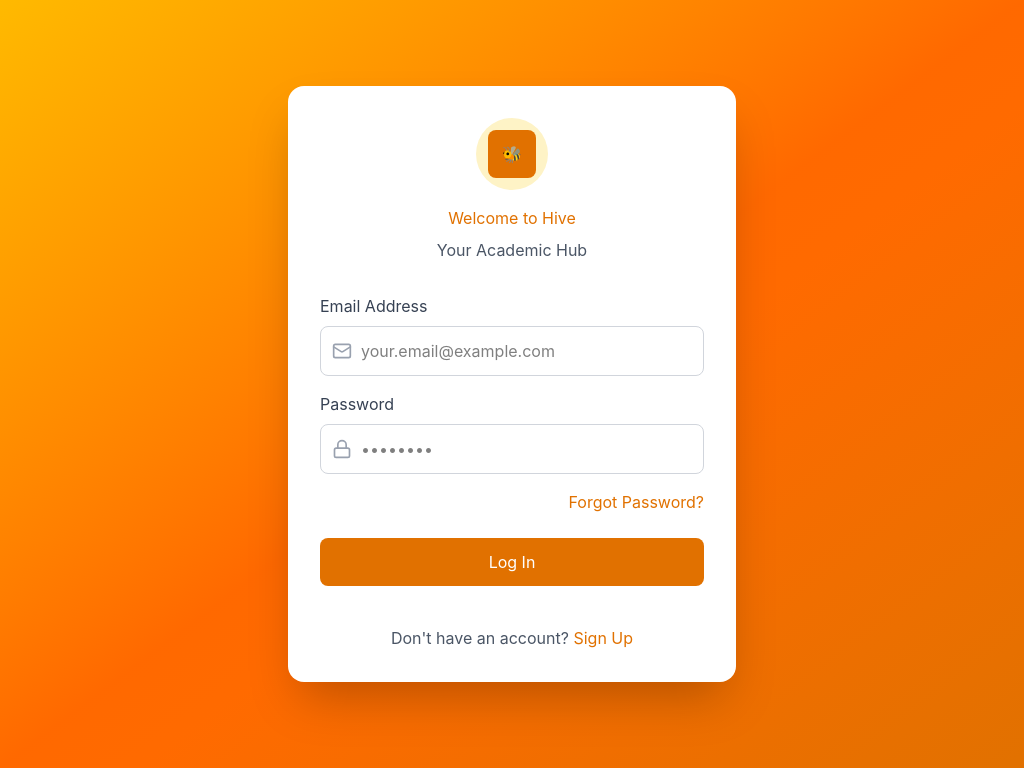
LoginPage Component › Login Flow › should display error on failed login
Type "test@example.com" into the field labelled "Email Address" at (512, 351), box [320,326,704,376]
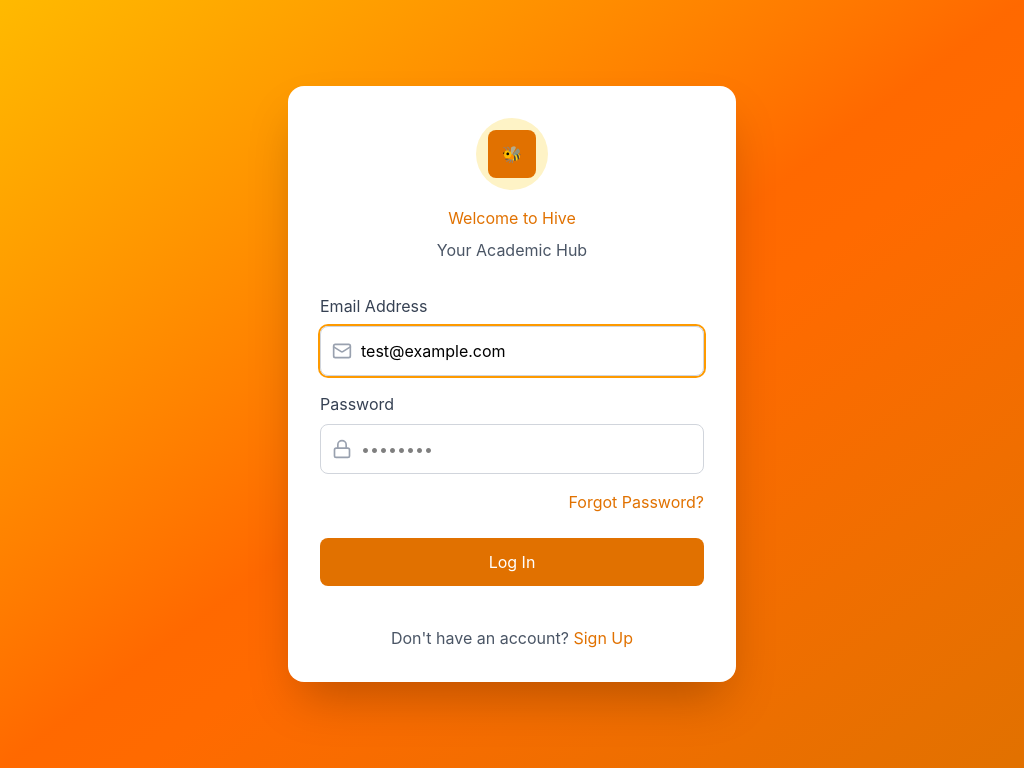
Type "wrongpassword" into the password field labelled "Password" at (512, 449), box [320,424,704,474]
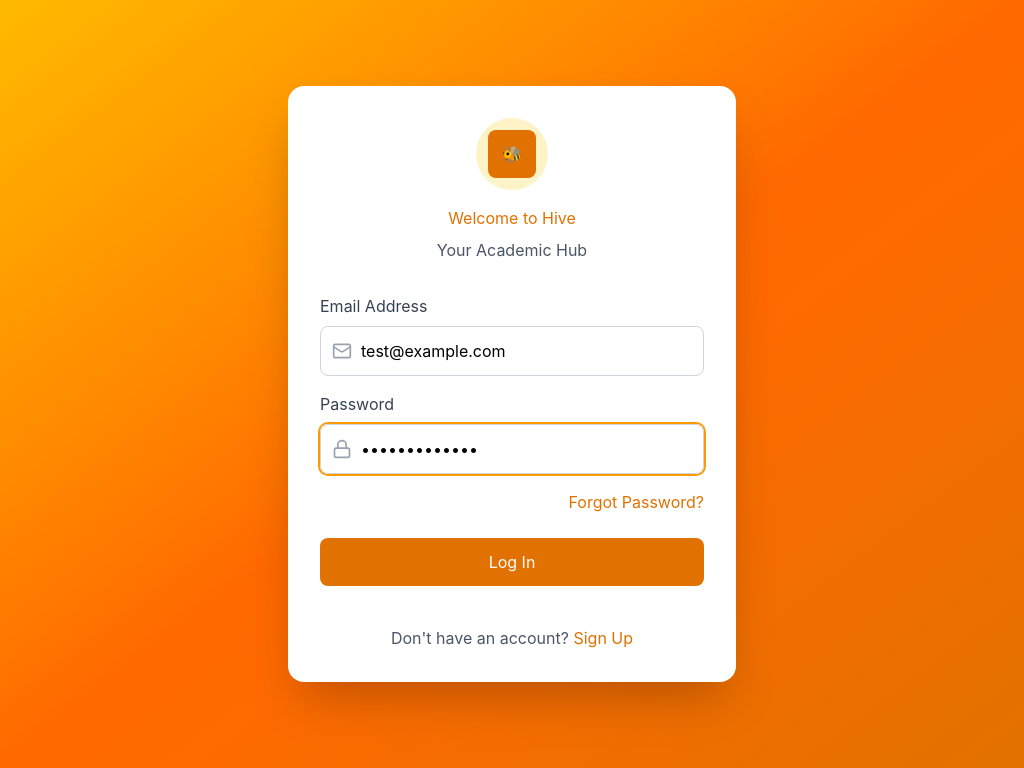
Click the button "Log In" at (512, 562), box [320,538,704,586]
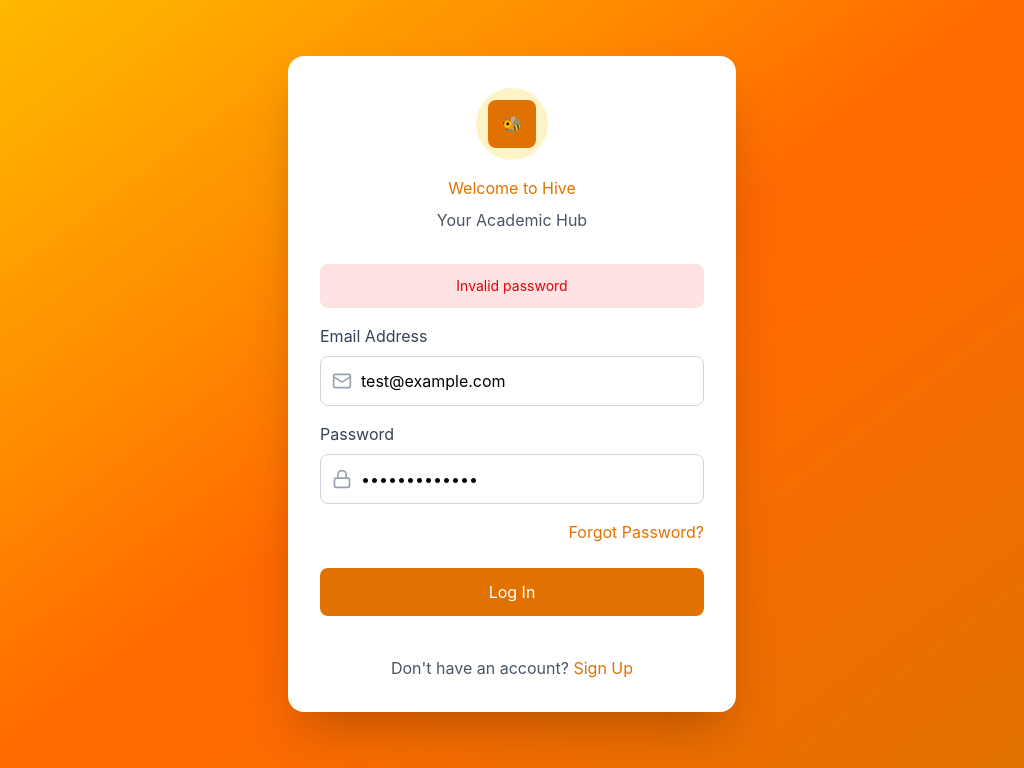
Expected: the text "Invalid password" is shown, [320,264,704,308]
